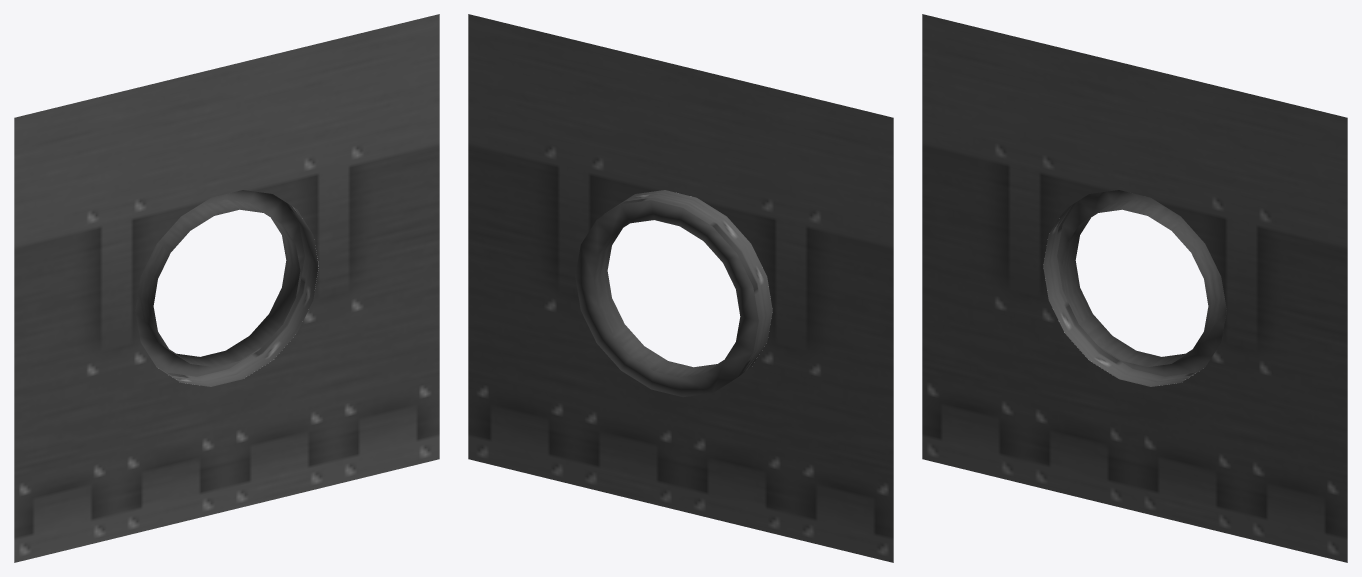
The model's file is Plane_Porthole.FBX.
3 views of the same model, side by side, from view 1: azimuth 30°, elevation 25°; view 2: azimuth 150°, elevation 25°; view 3: azimuth 330°, elevation 25° (orthographic).
Visible parts, largest first — view 1: Wall, Porthole; view 2: Wall, Porthole; view 3: Wall, Porthole.
Boxes of the visible parts, box(x1,y1,x2,y2) form: Wall: box(14, 14, 439, 562); Porthole: box(135, 190, 318, 386); Wall: box(468, 14, 893, 562); Porthole: box(575, 190, 772, 397); Wall: box(922, 14, 1347, 562); Porthole: box(1043, 190, 1226, 386).
Bounding box in the file's own units: 1 × 1 × 0.0573.
